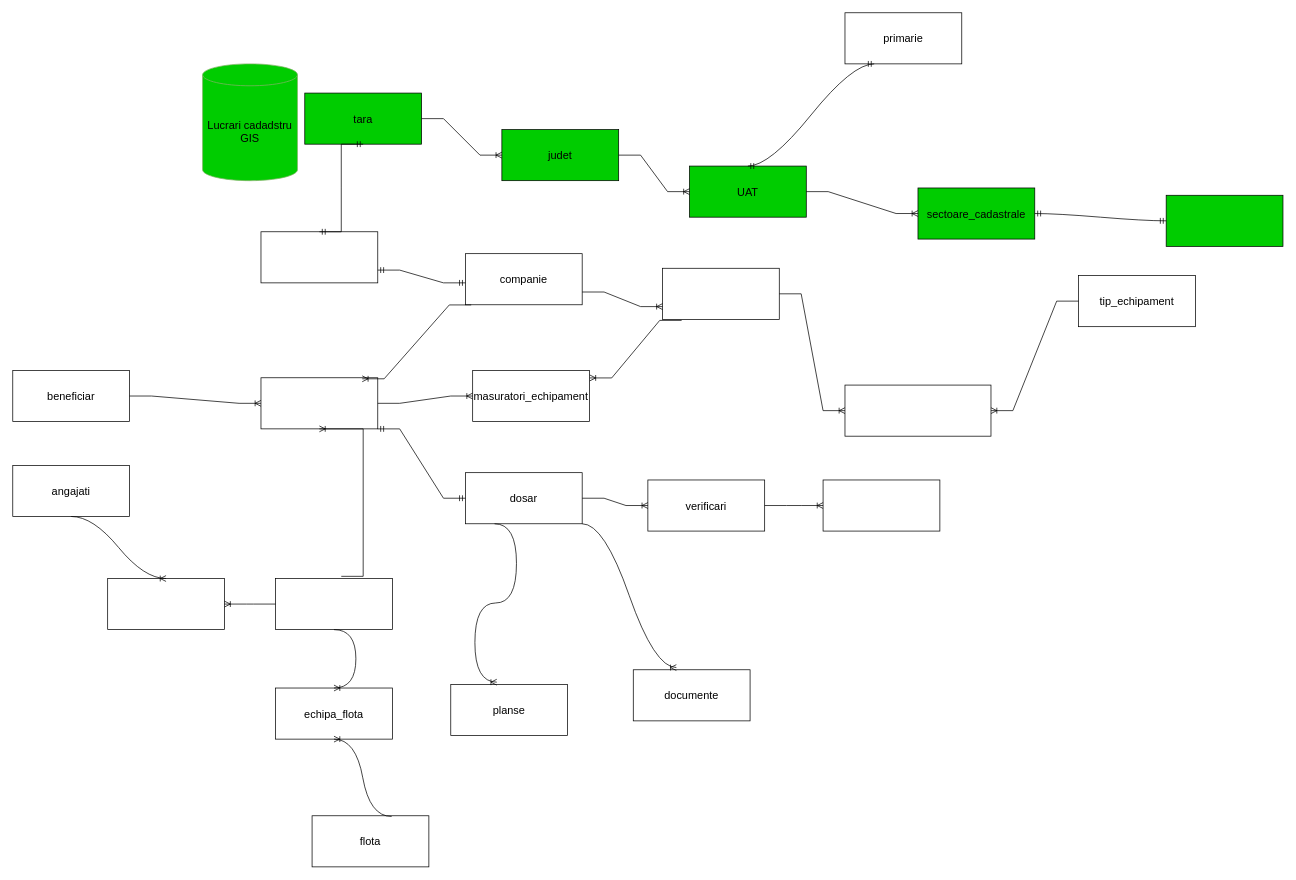
This 1296x880 diagram has some shape labels left out. The centre of each missing label's shape, as x and y in pixels:
"ANAF" goes at (319,257).
"angajati_echipa" goes at (165,604).
"echipa" goes at (333,604).
"echipament" goes at (720,293).
"echipament_tip_echipament" goes at (917,410).
"masuratori" goes at (319,403).
"retea_sprijin" goes at (1224,220).
"tip_verificari" goes at (881,505).
